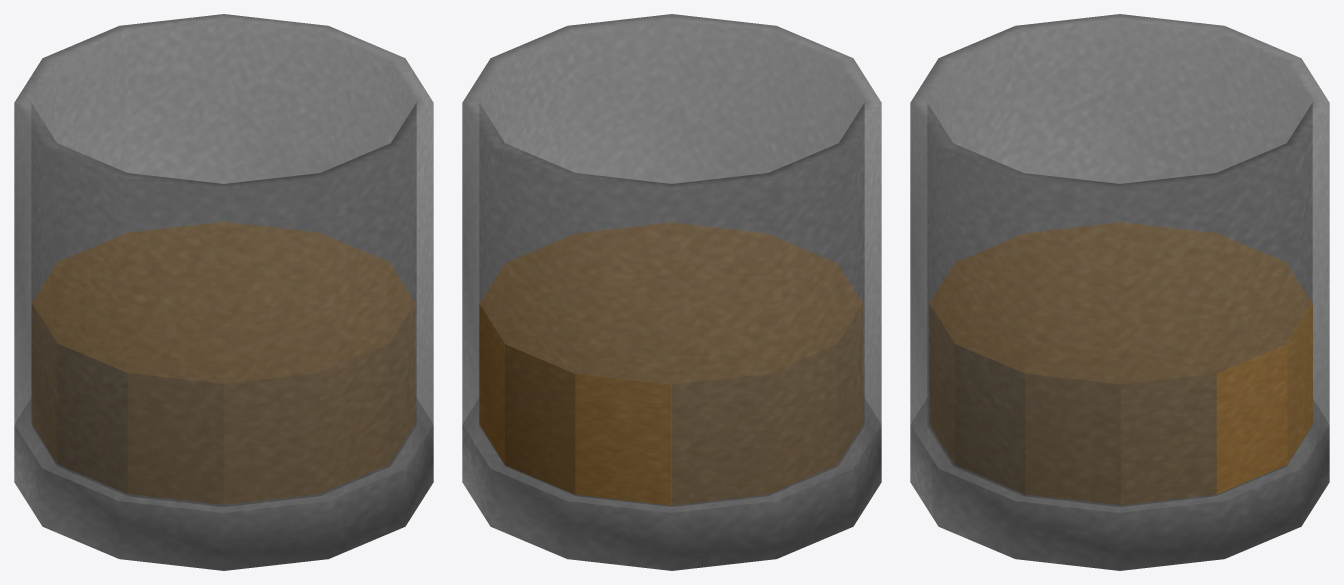
Rendered from glass_of_beer.obj.
The picture shows the model from 3 angles, left to right: view 1: azimuth 30°, elevation 25°; view 2: azimuth 150°, elevation 25°; view 3: azimuth 270°, elevation 25°; orthographic projection.
Visible parts, largest first — view 1: glass_of_beer; view 2: glass_of_beer; view 3: glass_of_beer.
Boxes of the visible parts, box(x1,y1,x2,y2) form: glass_of_beer: box(14, 14, 433, 570); glass_of_beer: box(462, 14, 881, 570); glass_of_beer: box(910, 14, 1329, 570).
Bounding box in the file's own units: 0.0989 × 0.0989 × 0.0989.
